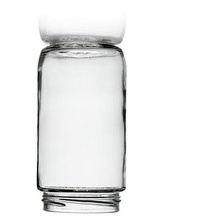glass: (29, 32, 133, 219)
